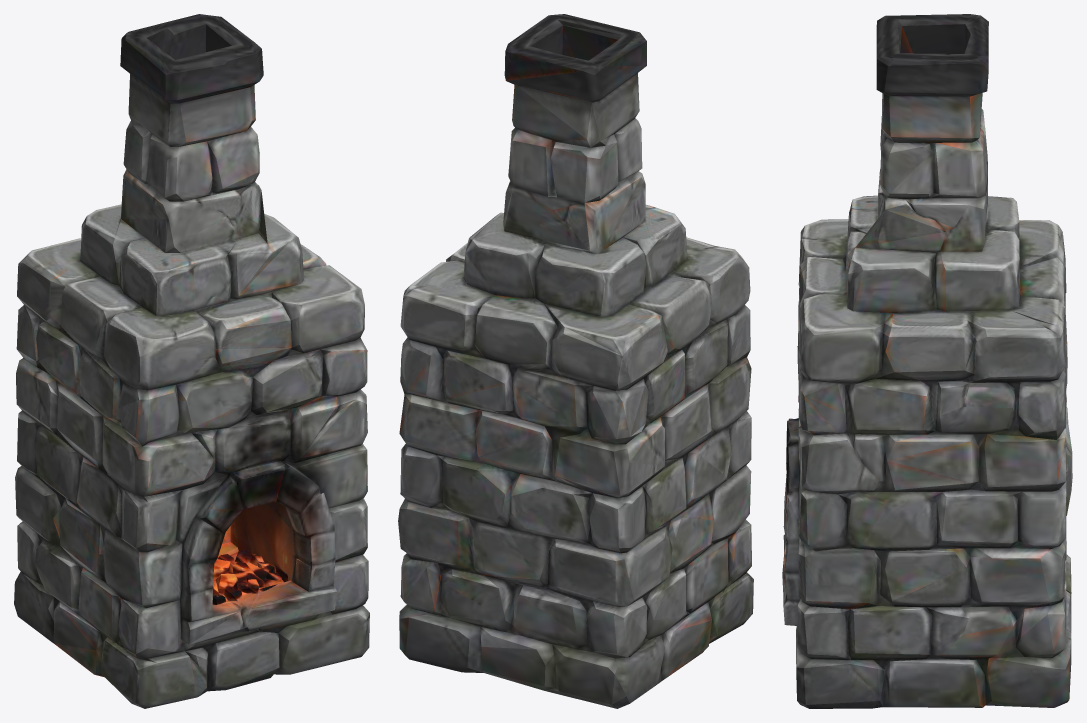
The model's file is smelter_3d.glb.
The picture shows the model from 3 angles, left to right: view 1: azimuth 30°, elevation 25°; view 2: azimuth 150°, elevation 25°; view 3: azimuth 270°, elevation 25°; orthographic projection. The views are drawn at different scales.
Visible parts, largest first — view 1: Mesh_0; view 2: Mesh_0; view 3: Mesh_0.
Part boxes in pixels (bbox=[...]): Mesh_0: bbox=[14, 14, 369, 708]; Mesh_0: bbox=[398, 14, 753, 708]; Mesh_0: bbox=[782, 14, 1072, 708].
Bounding box in the file's own units: 0.8306 × 2 × 0.8546.
1 material, 1 textured.
